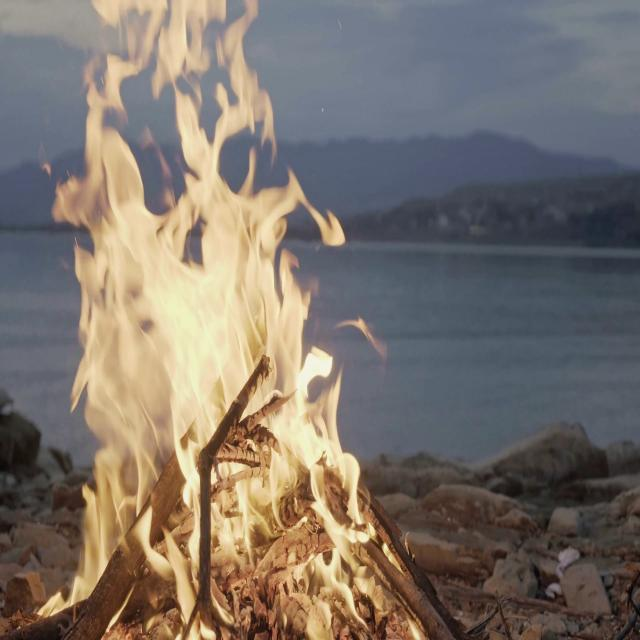Fire: (50, 0, 391, 640)
